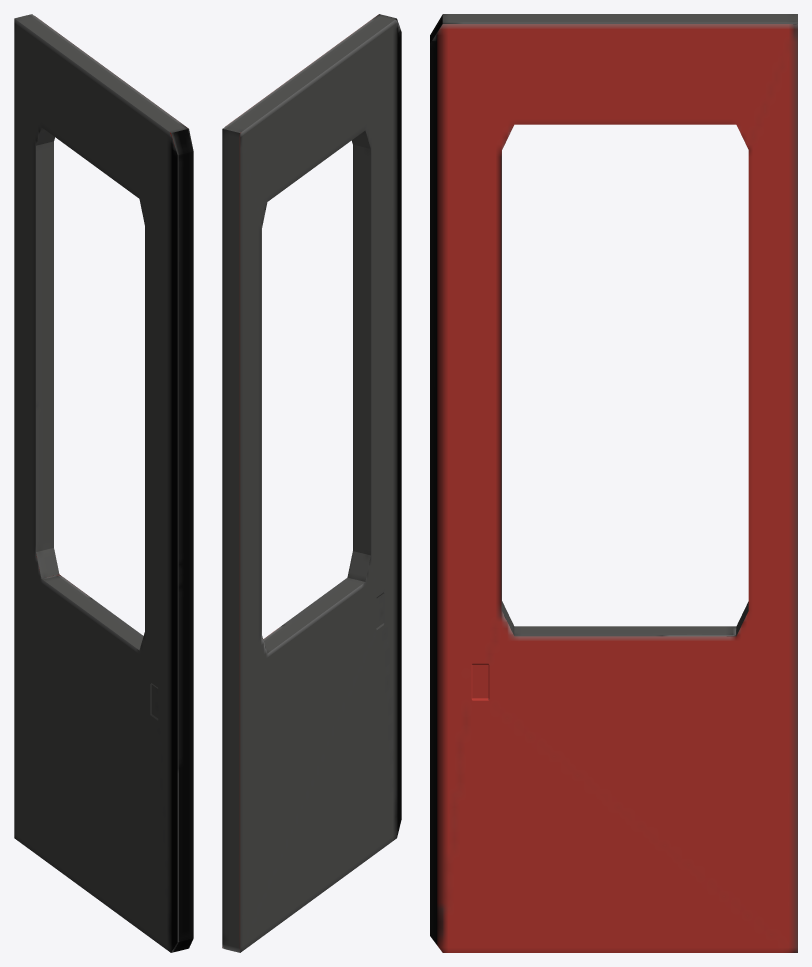
File: right door.obj
3 views of the same model, side by side, from view 1: azimuth 30°, elevation 25°; view 2: azimuth 150°, elevation 25°; view 3: azimuth 270°, elevation 25° (orthographic). The views are drawn at different scales.
Parts seen in each view (by area): view 1: Right_door_Cube.002; view 2: Right_door_Cube.002; view 3: Right_door_Cube.002.
Boxes of the visible parts, bbox=[...] form: Right_door_Cube.002: bbox=[14, 14, 193, 952]; Right_door_Cube.002: bbox=[222, 14, 401, 952]; Right_door_Cube.002: bbox=[430, 14, 797, 952].
Bounding box in the file's own units: 0.032 × 1.39 × 0.5002.
